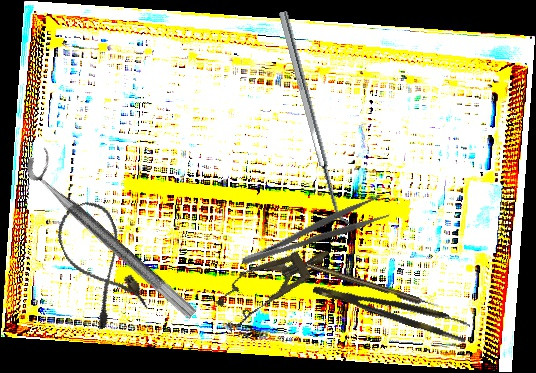Cannula: (48, 195, 151, 331)
Dressing Forceps: (235, 193, 391, 269)
Fixation Ring: (19, 144, 211, 321)
Hook Surgical: (305, 261, 440, 311)
Spatula Surgical: (278, 8, 353, 228)
Speculum: (208, 230, 340, 334)
Tissue Forceps: (311, 272, 472, 344)
